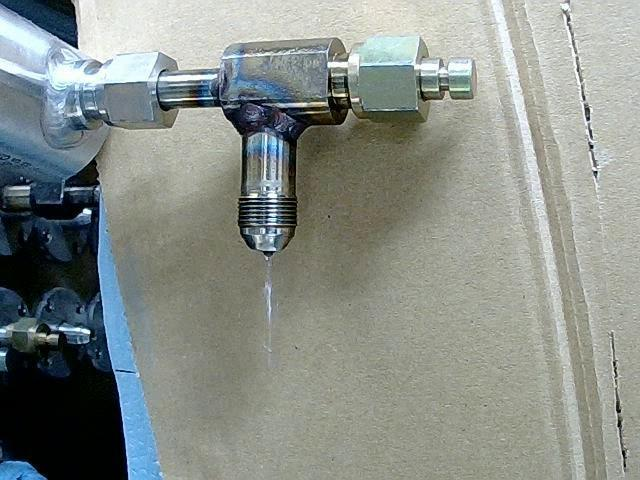water drop: (258, 251, 280, 367)
